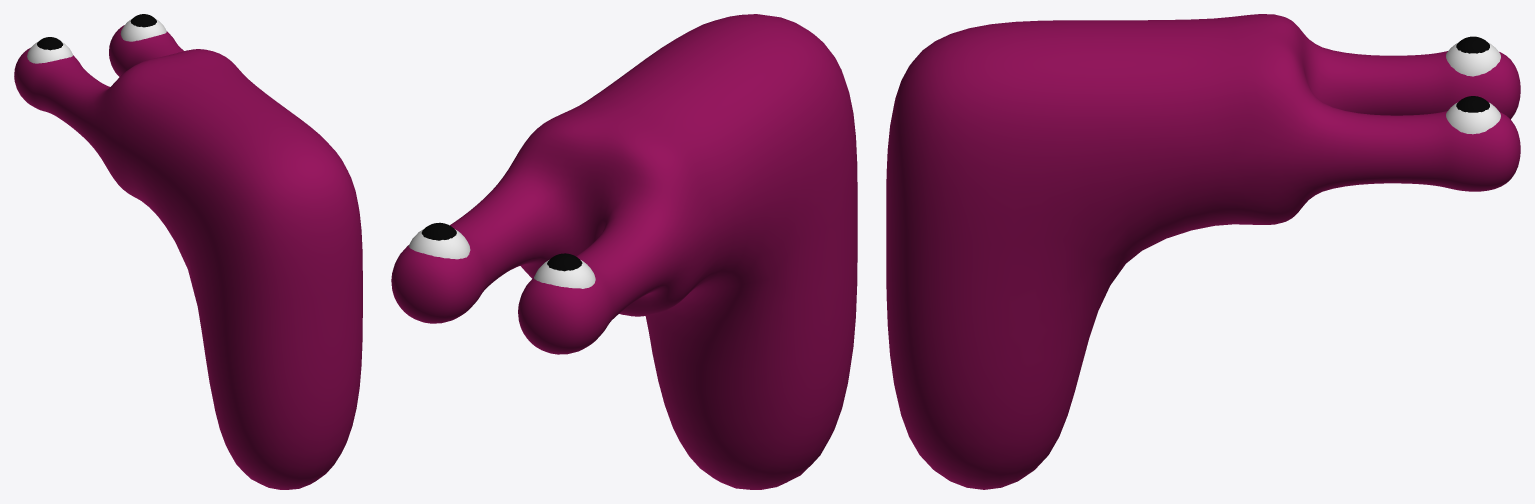
The model's file is Enemy.fbx.
3 views of the same model, side by side, from view 1: azimuth 30°, elevation 25°; view 2: azimuth 150°, elevation 25°; view 3: azimuth 270°, elevation 25° (orthographic). The views are drawn at different scales.
Parts seen in each view (by area): view 1: Cube; view 2: Cube; view 3: Cube.
Part boxes in pixels (x1=…): Cube: x1=14, y1=14, x2=362, y2=489; Cube: x1=391, y1=14, x2=857, y2=489; Cube: x1=886, y1=14, x2=1520, y2=489.
Size of the model in its own units: 212 by 472 by 597.
